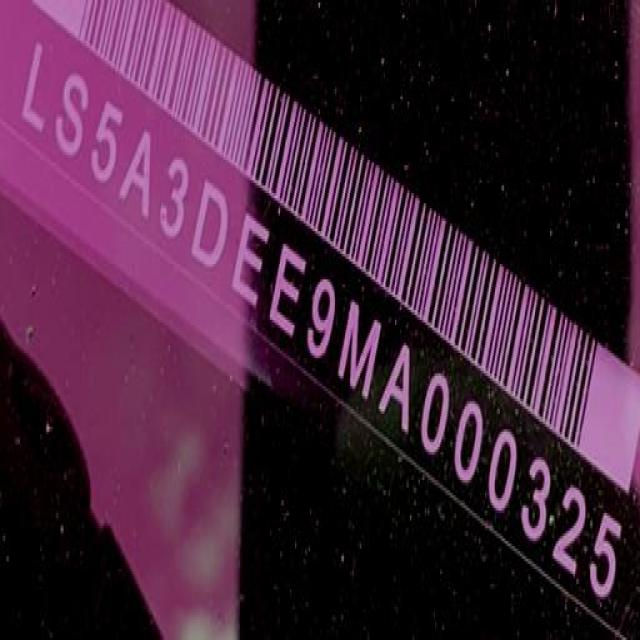0: (418, 369, 450, 455), (488, 424, 517, 512), (453, 399, 483, 483)
2: (549, 488, 586, 578)
3: (90, 98, 122, 184), (521, 451, 550, 544), (159, 158, 188, 238)
5: (588, 512, 622, 600)
9: (308, 276, 335, 358)
A: (116, 128, 152, 230), (379, 340, 410, 438)
D: (191, 179, 228, 270)
E: (232, 208, 269, 308), (270, 245, 306, 338)
L: (19, 41, 53, 133)
M: (336, 299, 381, 396)
S: (56, 74, 88, 156)
